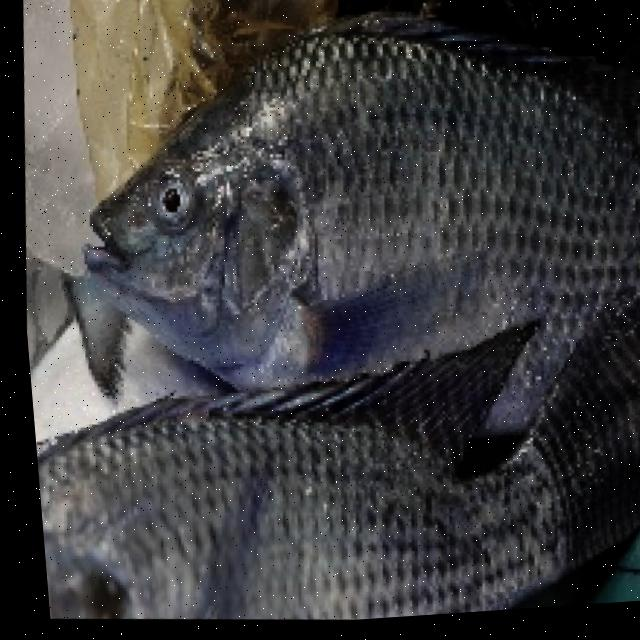Fresh: (50, 0, 596, 411)
